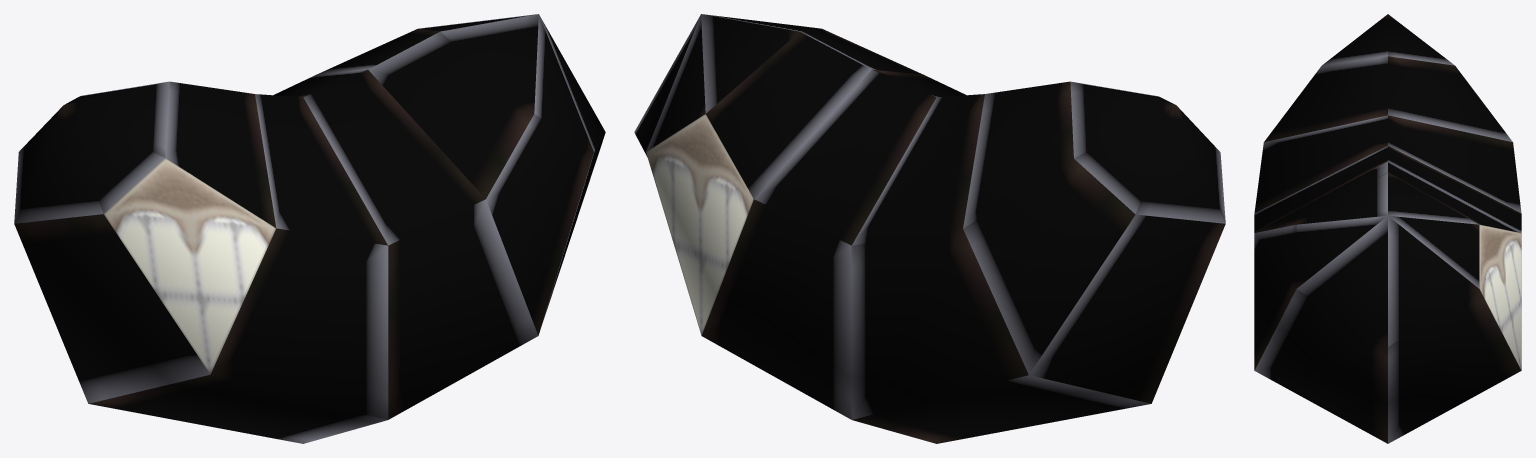
3 views of the same model, side by side, from view 1: azimuth 30°, elevation 25°; view 2: azimuth 150°, elevation 25°; view 3: azimuth 270°, elevation 25° (orthographic). The views are drawn at different scales.
Visible parts, largest first — view 1: T1L4M001_9; view 2: T1L4M001_9; view 3: T1L4M001_9.
Boxes of the visible parts, <box> form: T1L4M001_9: <box>14,14,605,443</box>; T1L4M001_9: <box>634,14,1225,443</box>; T1L4M001_9: <box>1254,14,1521,443</box>.
Bounding box in the file's own units: 0.5615 × 0.3604 × 0.2793.
